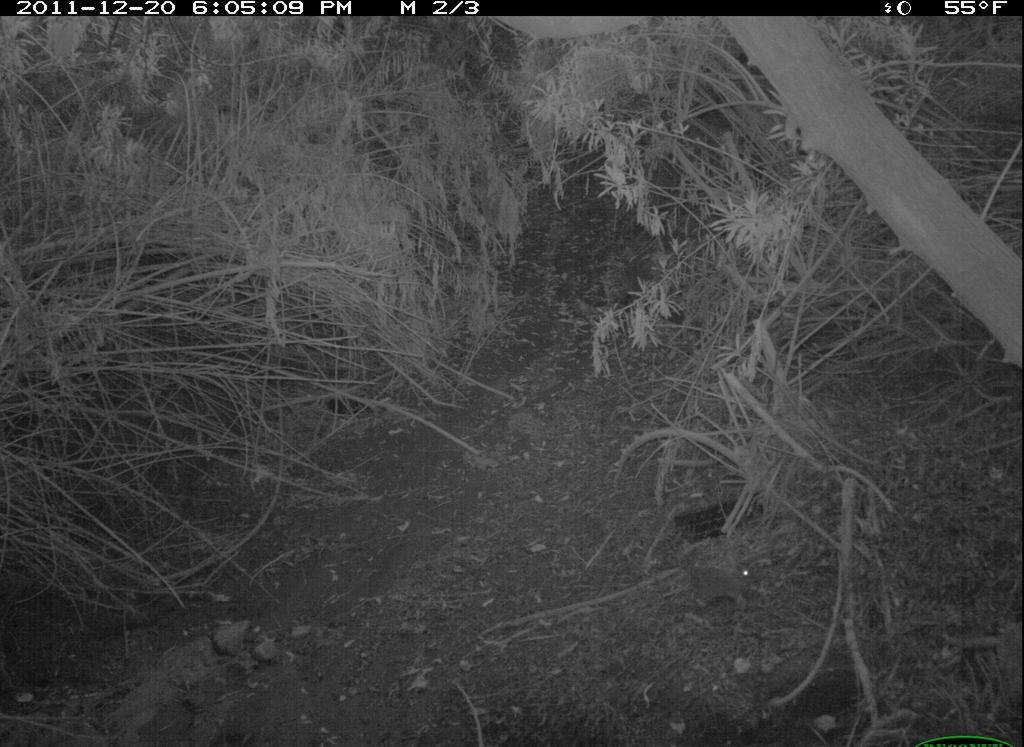rabbit: (678, 546, 760, 619)
